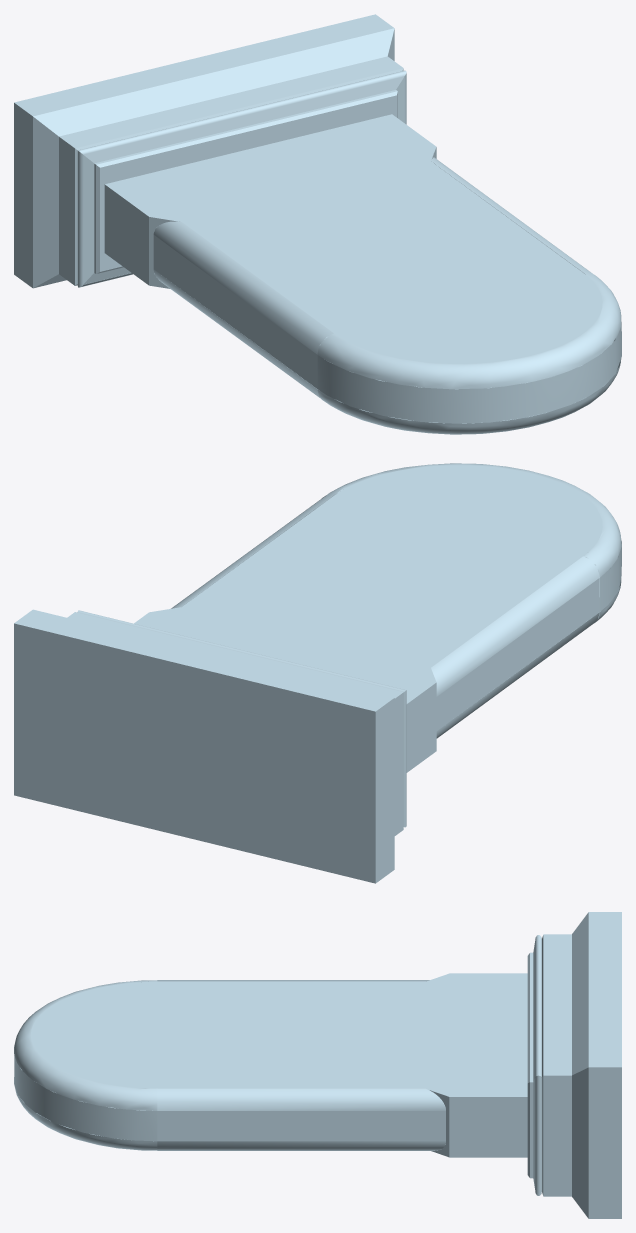
The picture shows the model from 3 angles, top to bottom: view 1: azimuth 30°, elevation 25°; view 2: azimuth 150°, elevation 25°; view 3: azimuth 270°, elevation 25°; orthographic projection. The views are drawn at different scales.
Parts seen in each view (by area): view 1: PA-419-F_LOD0; view 2: PA-419-F_LOD0; view 3: PA-419-F_LOD0.
Part boxes in pixels (box(x1,y1,x2,y2)): PA-419-F_LOD0: box(14, 14, 621, 434); PA-419-F_LOD0: box(14, 463, 621, 883); PA-419-F_LOD0: box(14, 912, 621, 1218).
Size of what is drawn, in the model's own units: 55.88 by 25.4 by 92.43.
